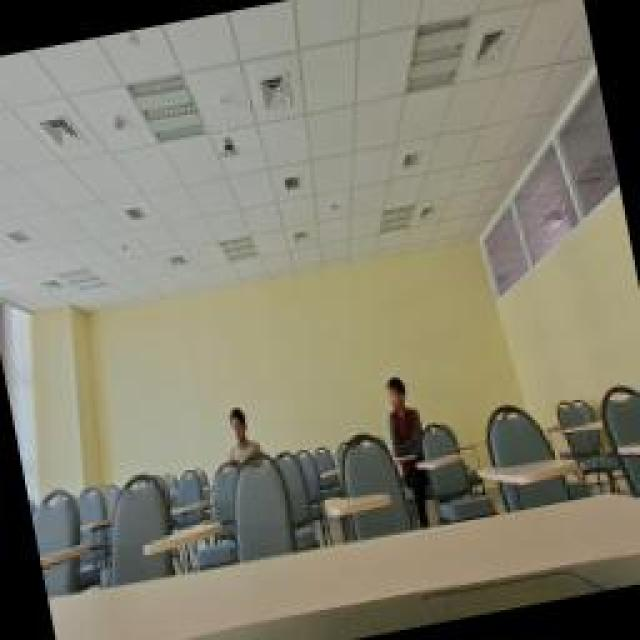study: (380, 372, 428, 462), (217, 405, 265, 477)
